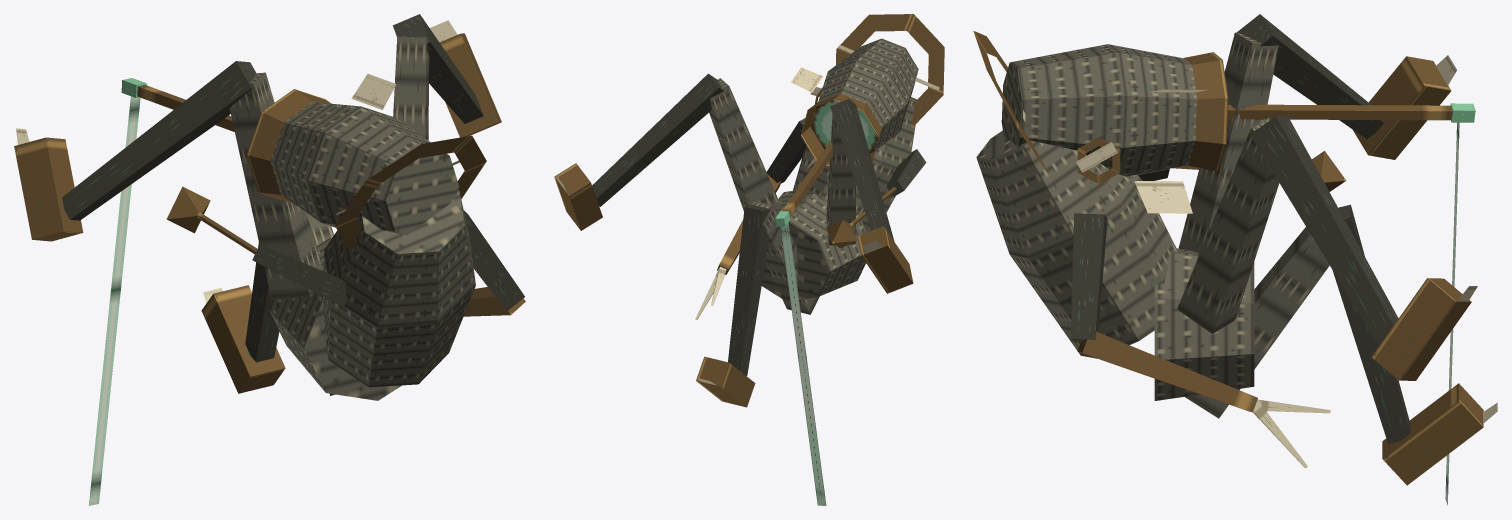
Rendered from surveyor_death.obj.
The picture shows the model from 3 angles, left to right: view 1: azimuth 30°, elevation 25°; view 2: azimuth 150°, elevation 25°; view 3: azimuth 270°, elevation 25°; orthographic projection. The views are drawn at different scales.
Parts seen in each view (by area): view 1: torso, head, leg_fl_shin, leg_fl_thigh, leg_fl_foot, root, leg_rear_foot, vane, plumb, gimbal, leg_fr_thigh, caliper (+4 smaller); view 2: head, root, leg_fr_shin, leg_rear_shin, leg_fr_thigh, gimbal, leg_fl_shin, torso, vane, leg_fl_foot, caliper, leg_fl_thigh (+5 smaller); view 3: head, torso, leg_fr_thigh, leg_fr_shin, caliper, root, leg_fl_thigh, leg_fr_foot, leg_rear_thigh, leg_rear_foot, leg_fl_foot, leg_fl_shin (+5 smaller).
Part boxes in pixels (left/top/right/bottom): torso: left=323, top=190, right=475, bottom=387; head: left=247, top=74, right=459, bottom=235; leg_fl_shin: left=62, top=61, right=255, bottom=220; leg_fl_thigh: left=229, top=72, right=322, bottom=299; leg_fl_foot: left=14, top=128, right=83, bottom=241; root: left=269, top=238, right=401, bottom=400; leg_rear_foot: left=201, top=285, right=285, bottom=393; vane: left=89, top=96, right=140, bottom=505; plumb: left=166, top=186, right=346, bottom=306; gimbal: left=335, top=135, right=486, bottom=251; leg_fr_thigh: left=393, top=36, right=429, bottom=140; caliper: left=463, top=210, right=525, bottom=316; head: left=791, top=38, right=918, bottom=169; root: left=761, top=190, right=866, bottom=301; leg_fr_shin: left=592, top=73, right=723, bottom=206; leg_rear_shin: left=728, top=205, right=770, bottom=375; leg_fr_thigh: left=709, top=78, right=781, bottom=210; gimbal: left=836, top=14, right=944, bottom=128; leg_fl_shin: left=830, top=99, right=894, bottom=241; torso: left=793, top=87, right=916, bottom=232; vane: left=780, top=223, right=826, bottom=505; leg_fl_foot: left=857, top=226, right=913, bottom=293; caliper: left=695, top=117, right=813, bottom=319; leg_fl_thigh: left=826, top=103, right=855, bottom=245; head: left=1001, top=44, right=1228, bottom=213; torso: left=976, top=130, right=1178, bottom=358; leg_fr_thigh: left=1177, top=117, right=1279, bottom=333; leg_fr_shin: left=1250, top=116, right=1398, bottom=345; caliper: left=1070, top=213, right=1330, bottom=468; root: left=1154, top=248, right=1254, bottom=400; leg_fl_thigh: left=1178, top=32, right=1278, bottom=252; leg_fr_foot: left=1371, top=278, right=1477, bottom=380; leg_rear_thigh: left=1185, top=227, right=1329, bottom=418; leg_rear_foot: left=1382, top=383, right=1497, bottom=485; leg_fl_foot: left=1352, top=55, right=1456, bottom=159; leg_fl_shin: left=1234, top=14, right=1383, bottom=139.
Size of the model in its own units: 0.6595 by 0.6622 by 0.6023.
1 material, 1 textured.
